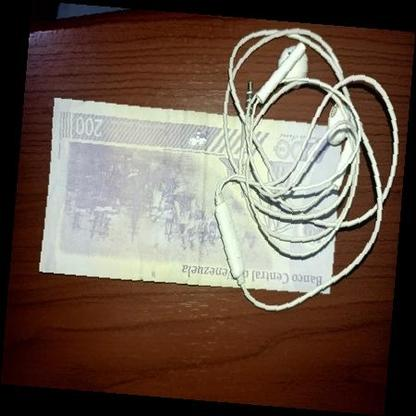vef_back: (38, 96, 341, 294)
